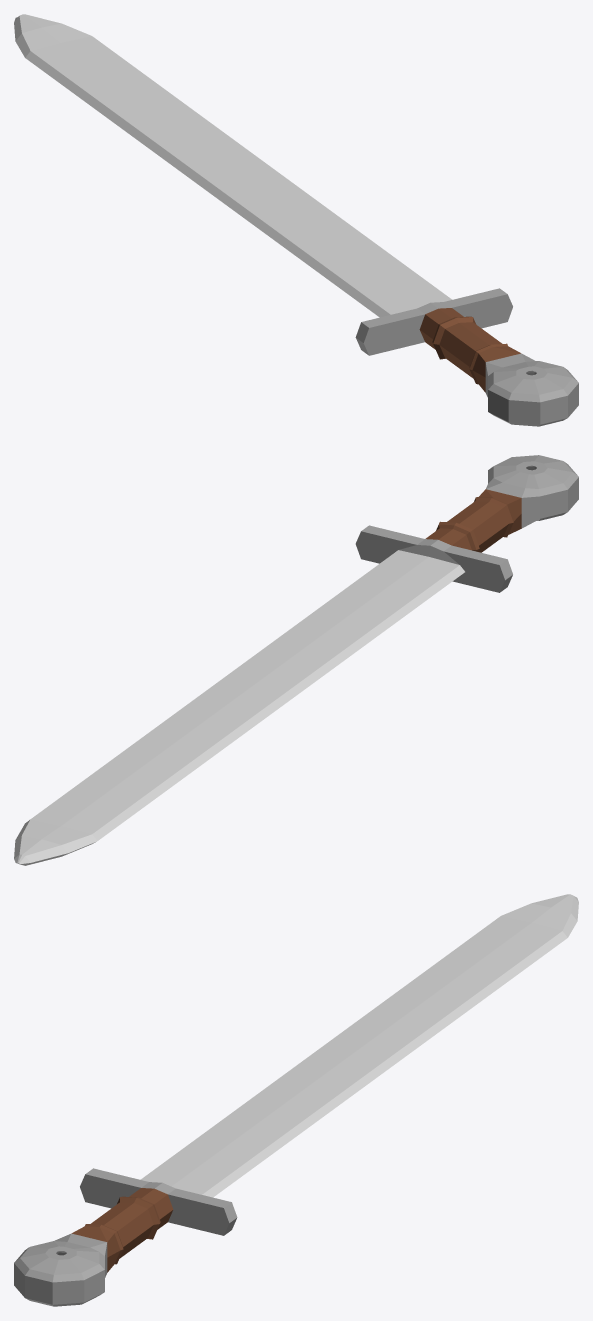
File: longsword.glb
3 views of the same model, one above another, from view 1: azimuth 30°, elevation 25°; view 2: azimuth 150°, elevation 25°; view 3: azimuth 330°, elevation 25° (orthographic).
Visible parts, largest first — view 1: Cylinder; view 2: Cylinder; view 3: Cylinder.
Part boxes in pixels (x1,y1,x2,y2): Cylinder: (14,14,578,426); Cylinder: (14,455,578,865); Cylinder: (14,894,578,1306).
Bounding box in the file's own units: 0.8021 × 0.216 × 4.98.
Materials: 1 (1 with a texture image).
